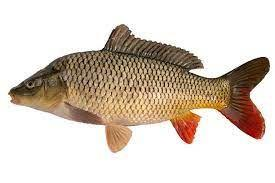Indian Carp: (8, 22, 271, 152)
